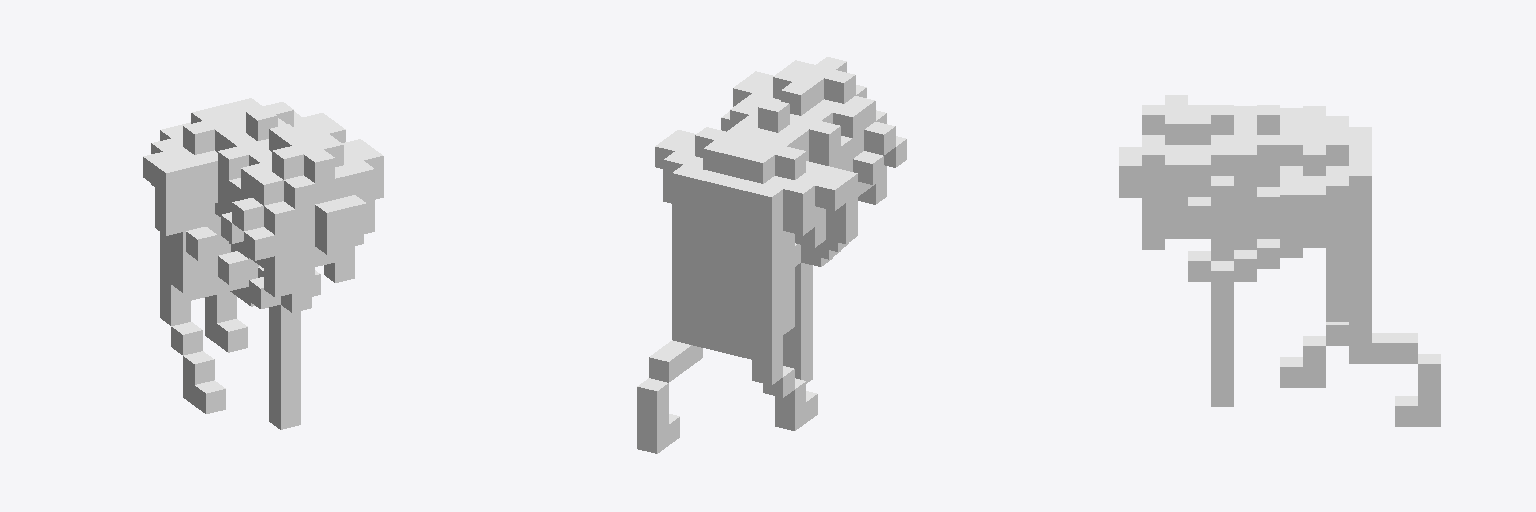
Rendered from SwingingAxeManChar-6.obj.
3 renders of one model, left to right at view 1: azimuth 30°, elevation 25°; view 2: azimuth 150°, elevation 25°; view 3: azimuth 270°, elevation 25°, orthographic.
Parts seen in each view (by area): view 1: SwingingAxeManChar-6; view 2: SwingingAxeManChar-6; view 3: SwingingAxeManChar-6.
Boxes of the visible parts, x1,y1,x2,y2 form: SwingingAxeManChar-6: [143, 98, 383, 429]; SwingingAxeManChar-6: [637, 57, 906, 453]; SwingingAxeManChar-6: [1119, 95, 1440, 426].
Size of the model in its own units: 9 by 14 by 14.